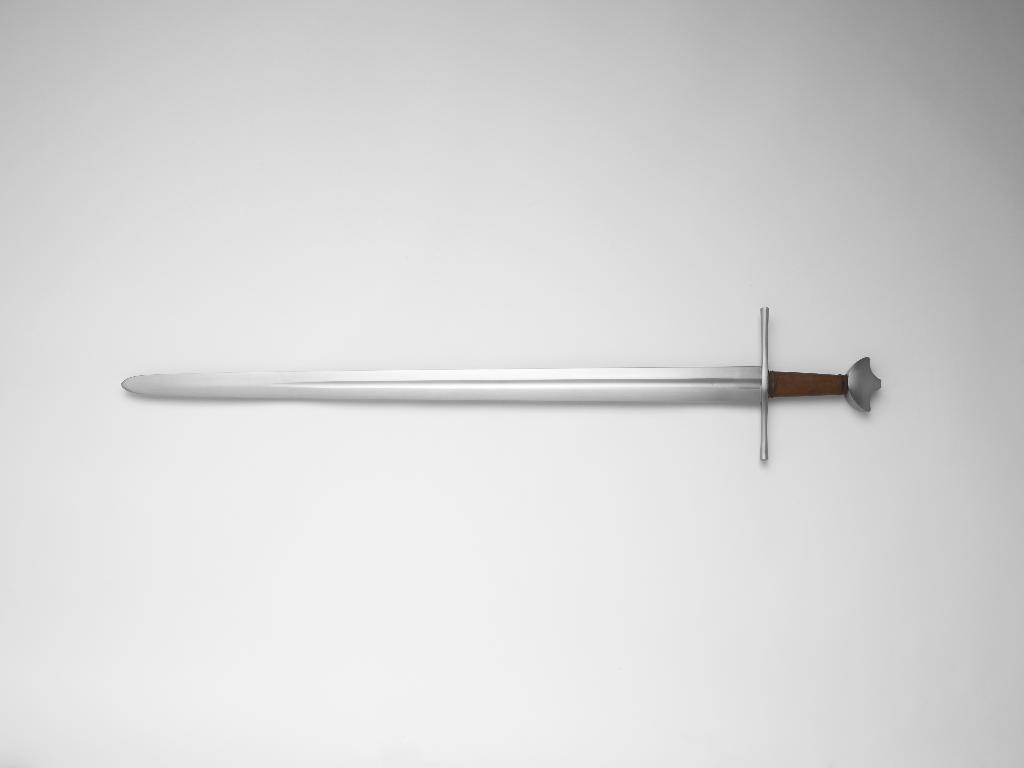Sword: (119, 305, 884, 461)
